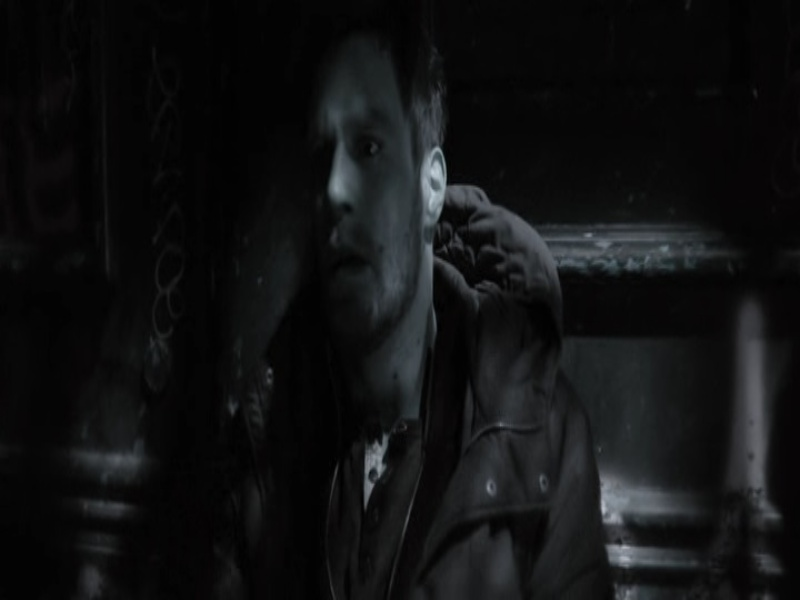TsisyArotava: (283, 57, 445, 375)
